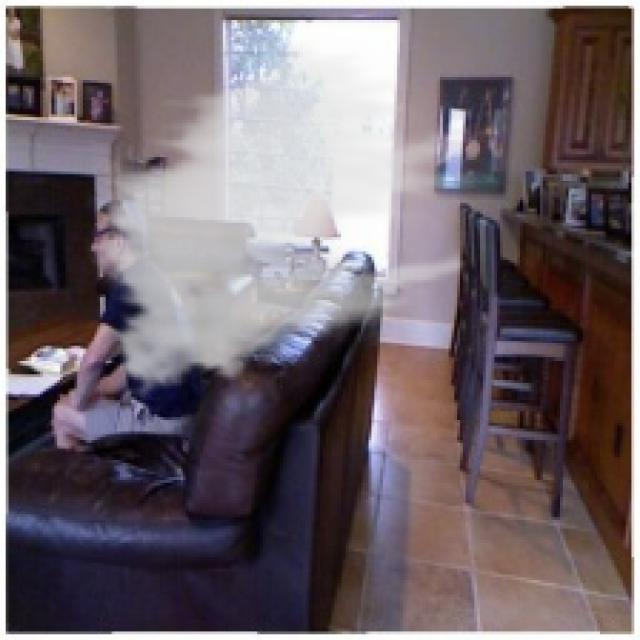smoke: (86, 31, 463, 406)
